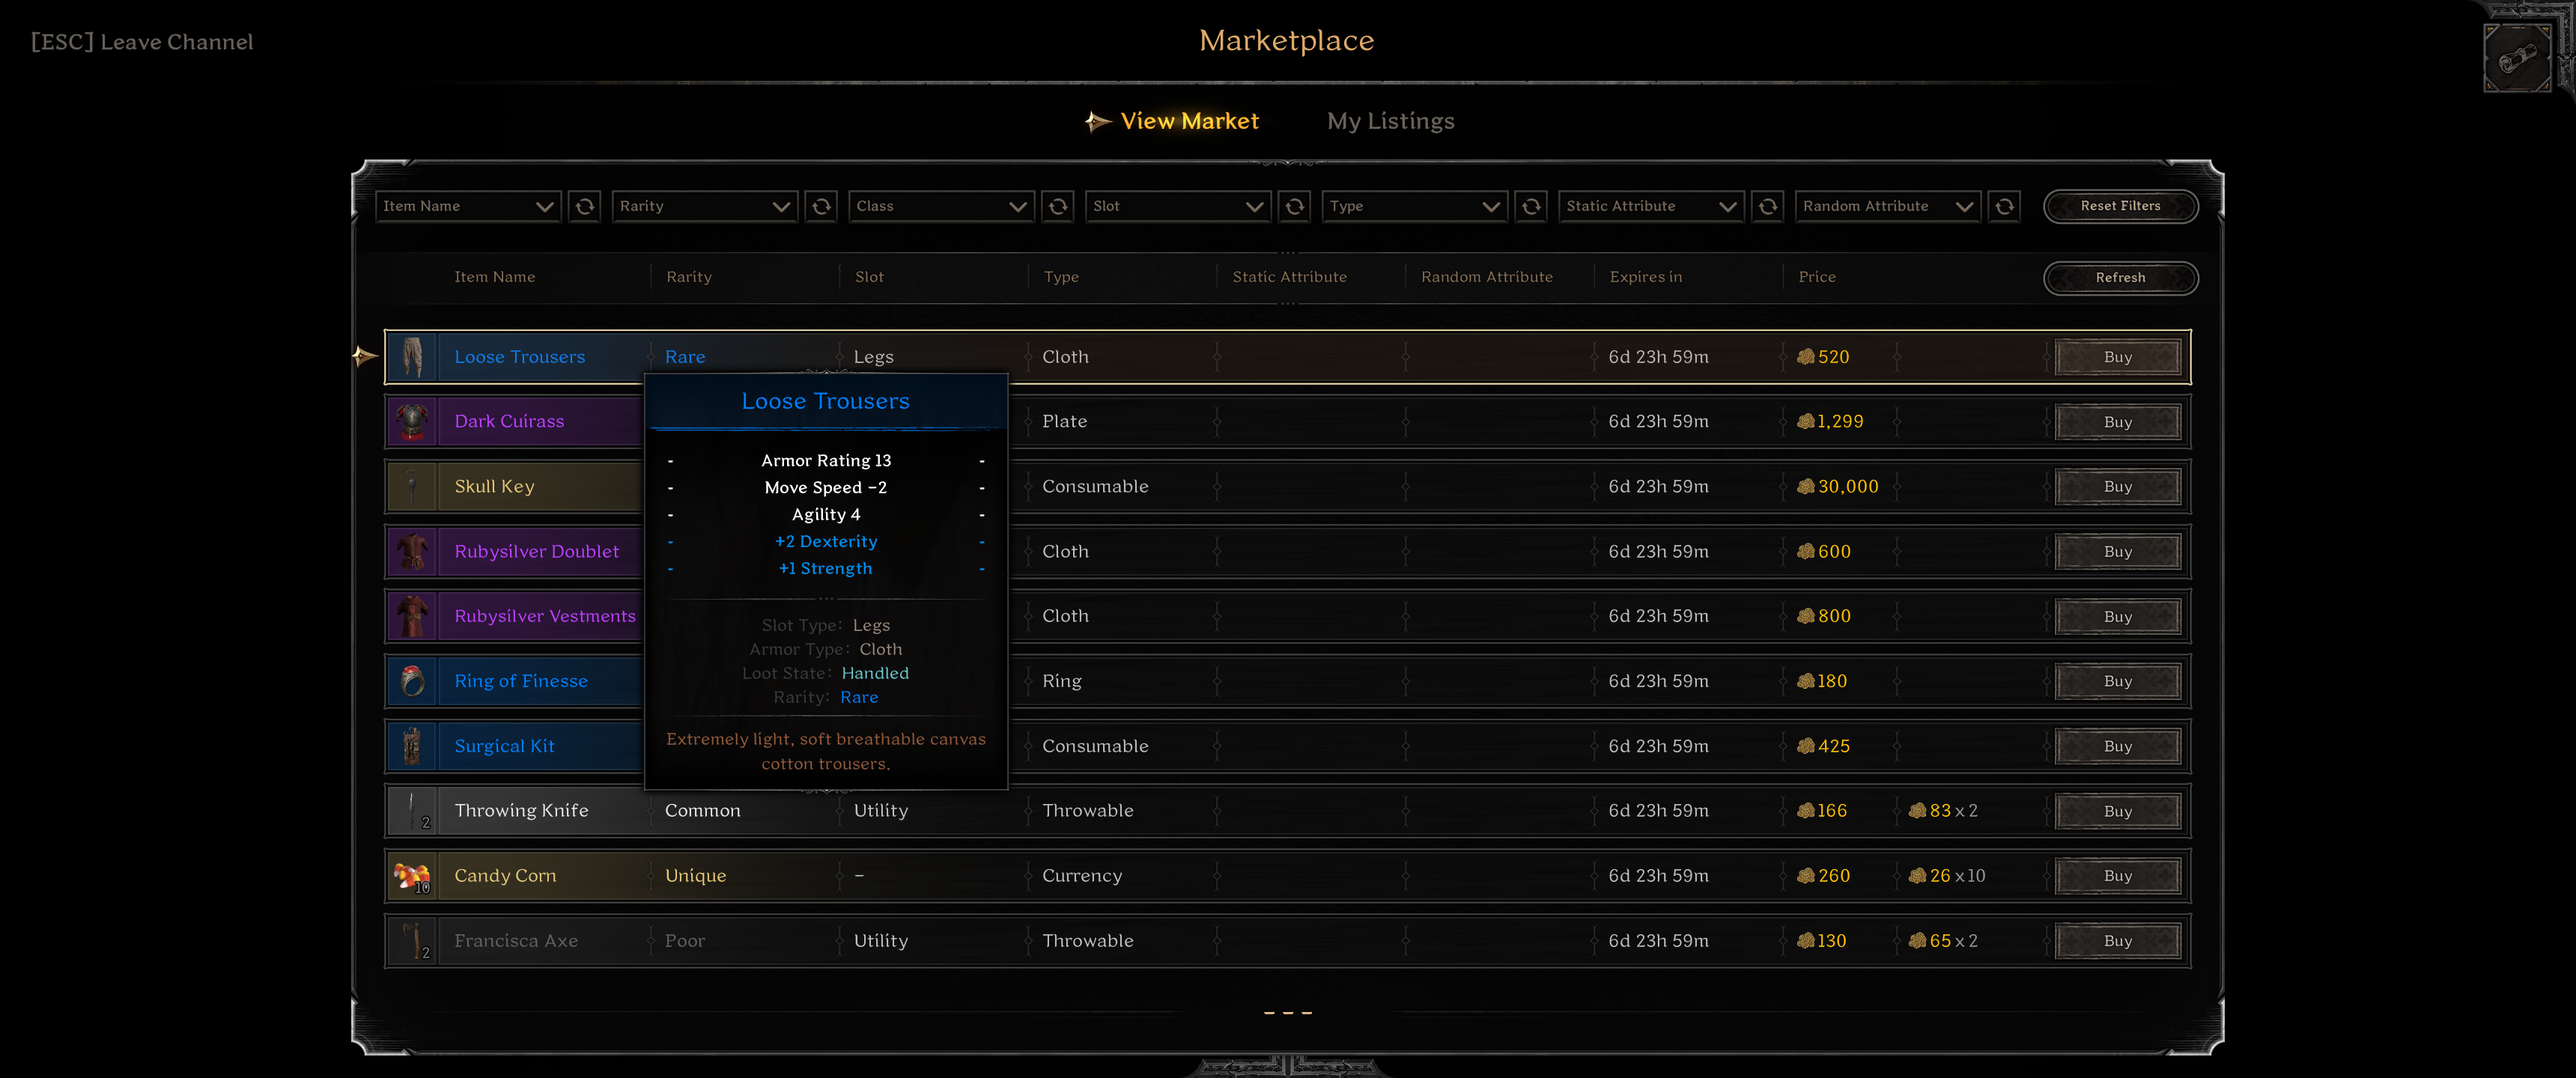Tooltip: (642, 371, 1009, 792)
